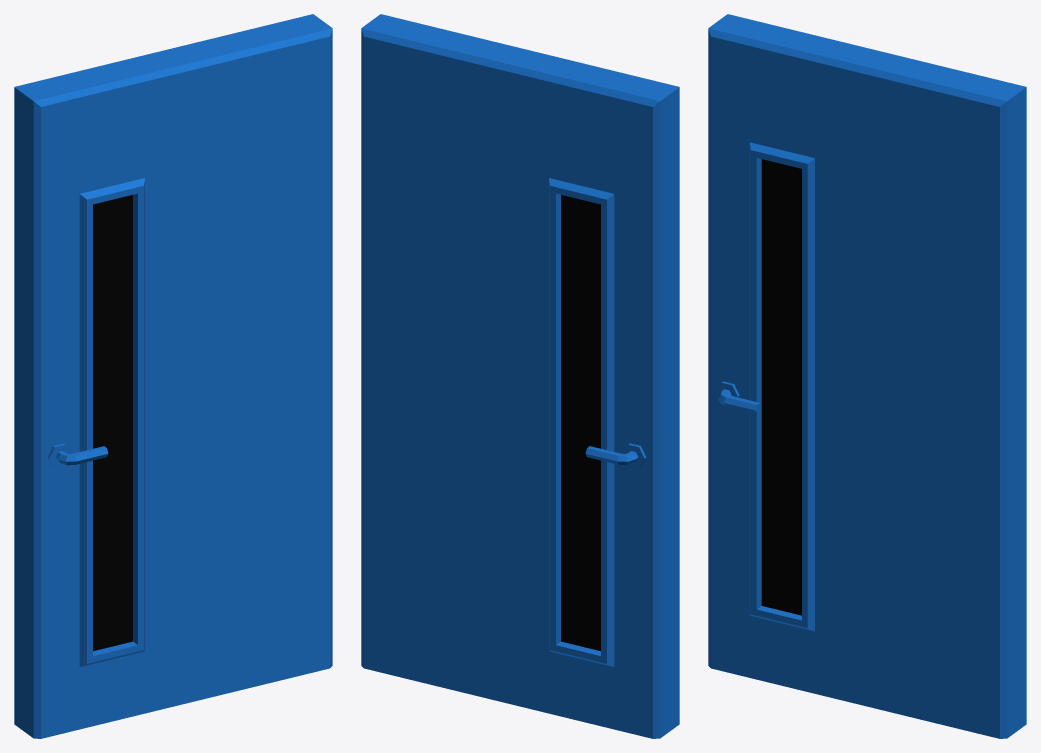
The model's file is SM_door.fbx.
3 views of the same model, side by side, from view 1: azimuth 30°, elevation 25°; view 2: azimuth 150°, elevation 25°; view 3: azimuth 330°, elevation 25° (orthographic).
Parts seen in each view (by area): view 1: Symmetry_50; view 2: Symmetry_50; view 3: Symmetry_50.
Part boxes in pixels (x1,y1,x2,y2): Symmetry_50: (14, 14, 332, 738); Symmetry_50: (361, 14, 679, 738); Symmetry_50: (708, 14, 1026, 738).
Size of the model in its own units: 104 by 213 by 28.19.
